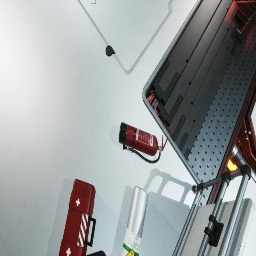0: (121, 186, 148, 256)
FireExtinguisher ]: (119, 122, 168, 164)
FirstAidBox ,: (59, 179, 96, 256)
